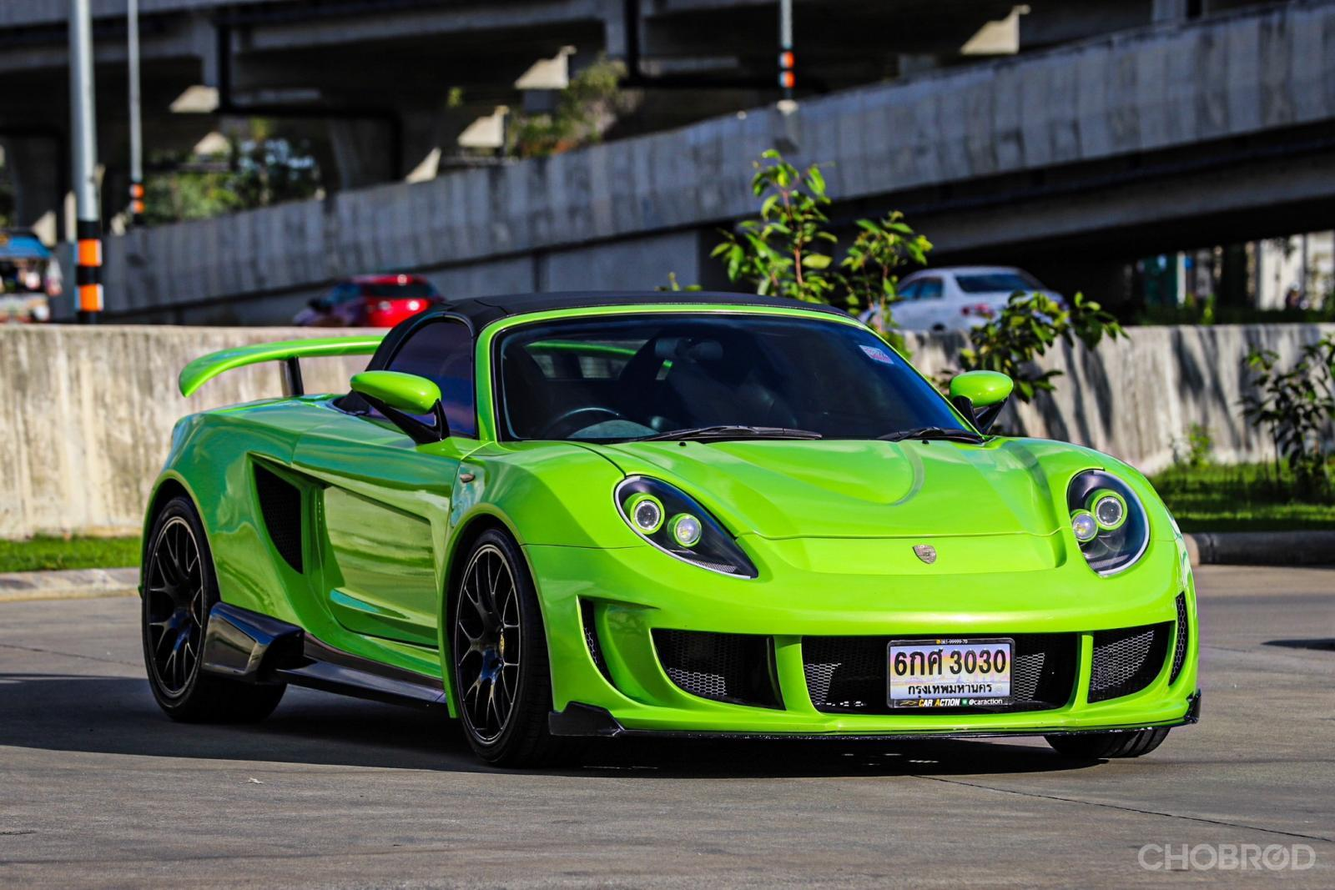license-plate: (882, 635, 1017, 708)
